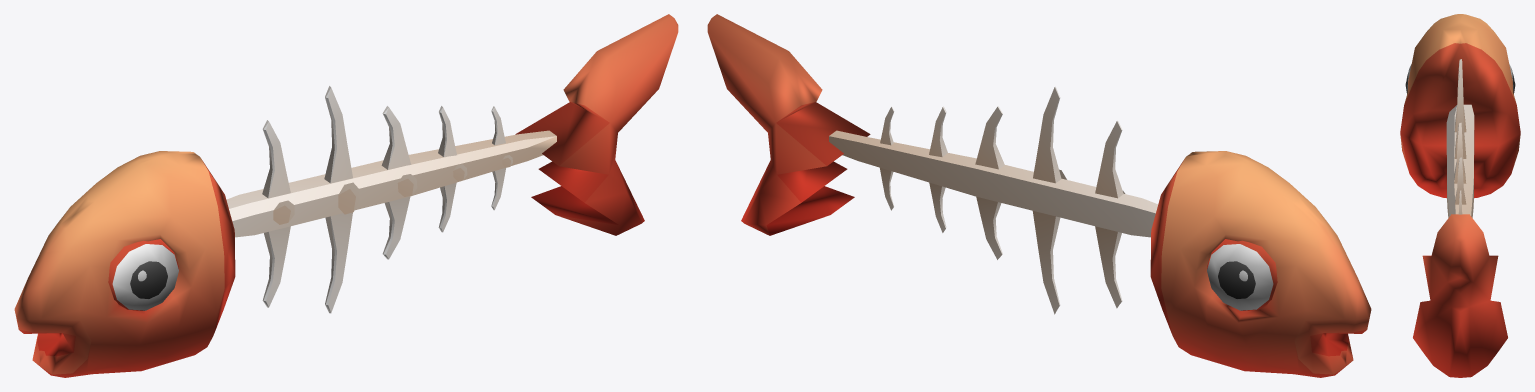
Rendered from fishalmostdead_002.glb.
3 renders of one model, left to right at view 1: azimuth 30°, elevation 25°; view 2: azimuth 150°, elevation 25°; view 3: azimuth 270°, elevation 25°, orthographic. The views are drawn at different scales.
Visible parts, largest first — view 1: fishalmostdead.002; view 2: fishalmostdead.002; view 3: fishalmostdead.002.
Boxes of the visible parts, left/top/right/bottom form: fishalmostdead.002: left=14, top=14, right=678, bottom=377; fishalmostdead.002: left=707, top=14, right=1371, bottom=377; fishalmostdead.002: left=1400, top=14, right=1520, bottom=377.
Size of the model in its own units: 1.05 by 0.3486 by 0.1915.
Materials: 1 (1 with a texture image).
